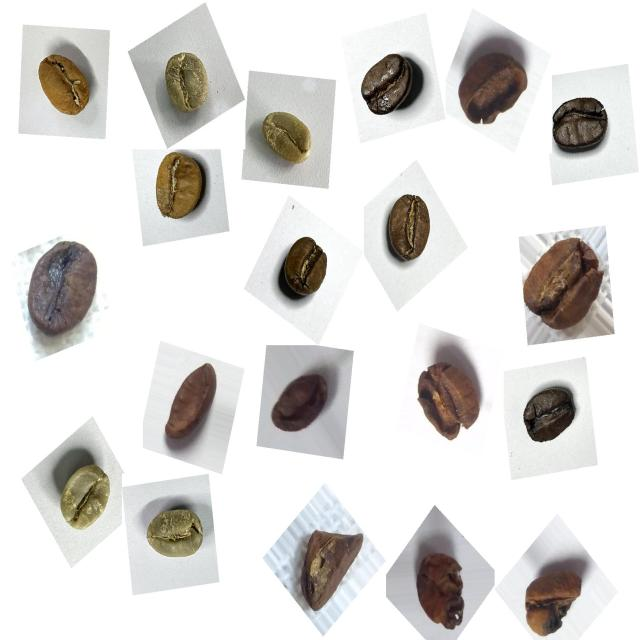bad: (514, 228, 615, 344), (19, 228, 107, 345), (449, 27, 536, 139), (404, 334, 489, 448), (291, 516, 374, 623), (402, 532, 475, 637), (514, 546, 595, 637), (157, 356, 229, 458), (261, 358, 338, 449)
dark: (351, 38, 426, 126), (545, 84, 617, 168), (515, 376, 584, 456)
green: (44, 448, 119, 546), (149, 39, 221, 129), (137, 491, 210, 574), (254, 99, 322, 180)
light: (28, 38, 102, 130), (146, 147, 220, 235)
medium: (378, 184, 447, 270), (275, 229, 339, 310)
